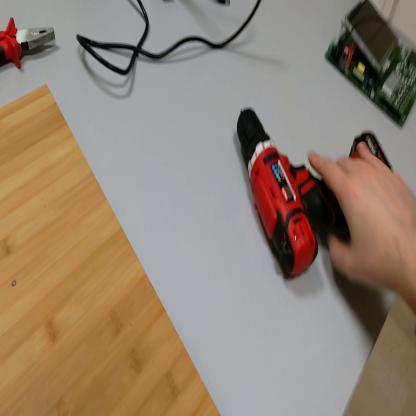electric screwdriver: (238, 105, 389, 283)
hand: (308, 142, 415, 298)
low voltage board: (326, 4, 416, 130)
pliers: (2, 14, 57, 73)
working area: (1, 86, 222, 414)
